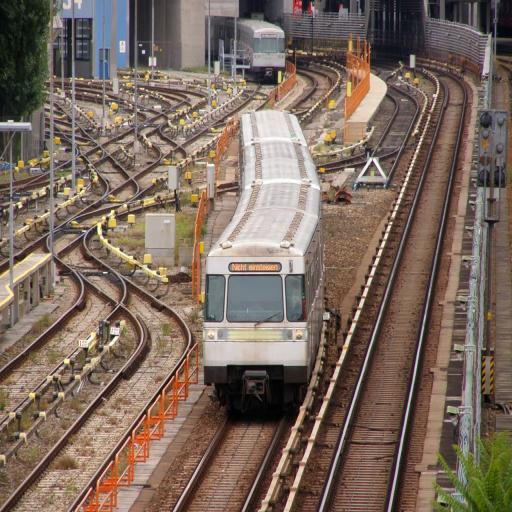Silberpfeil: (200, 107, 324, 388)
